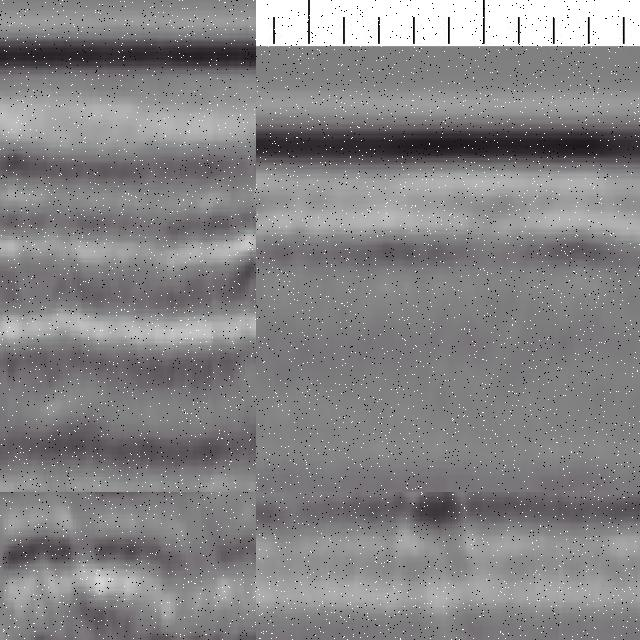crack: (402, 493, 467, 640)
loose: (1, 504, 257, 640)
